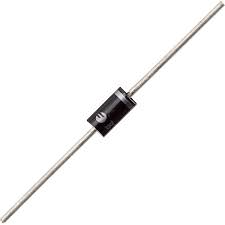diode: (43, 65, 163, 153)
